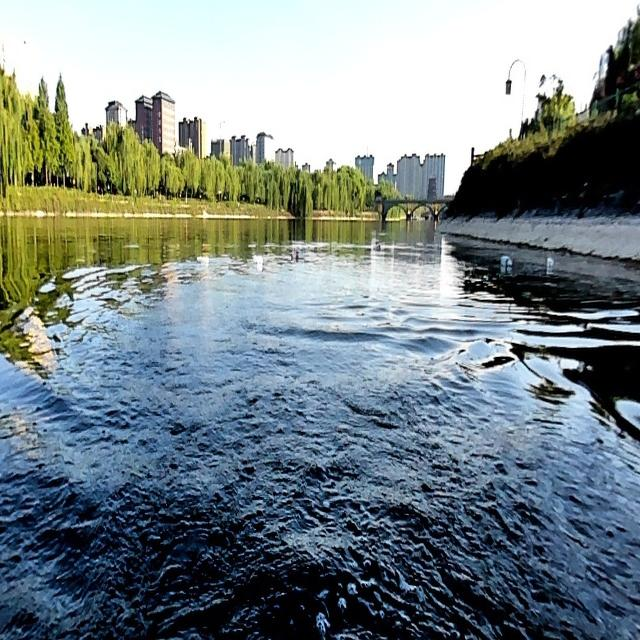bottle: (498, 252, 514, 267), (289, 247, 305, 261)
